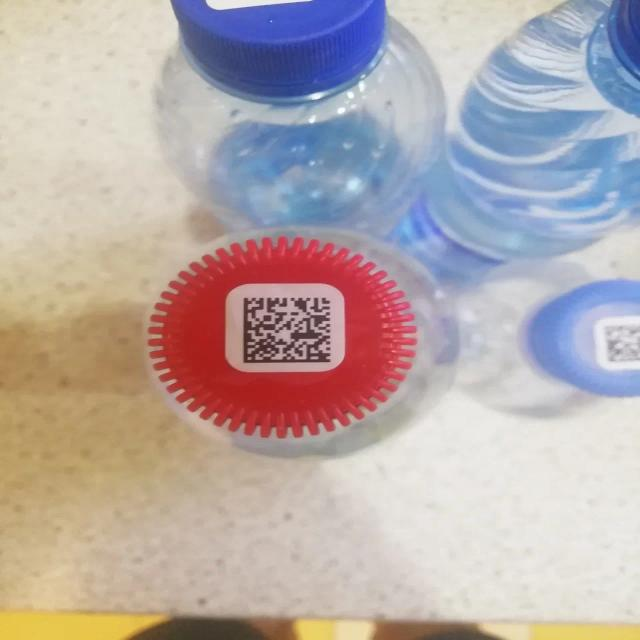datamatrix: (238, 294, 341, 366), (601, 323, 640, 364)
